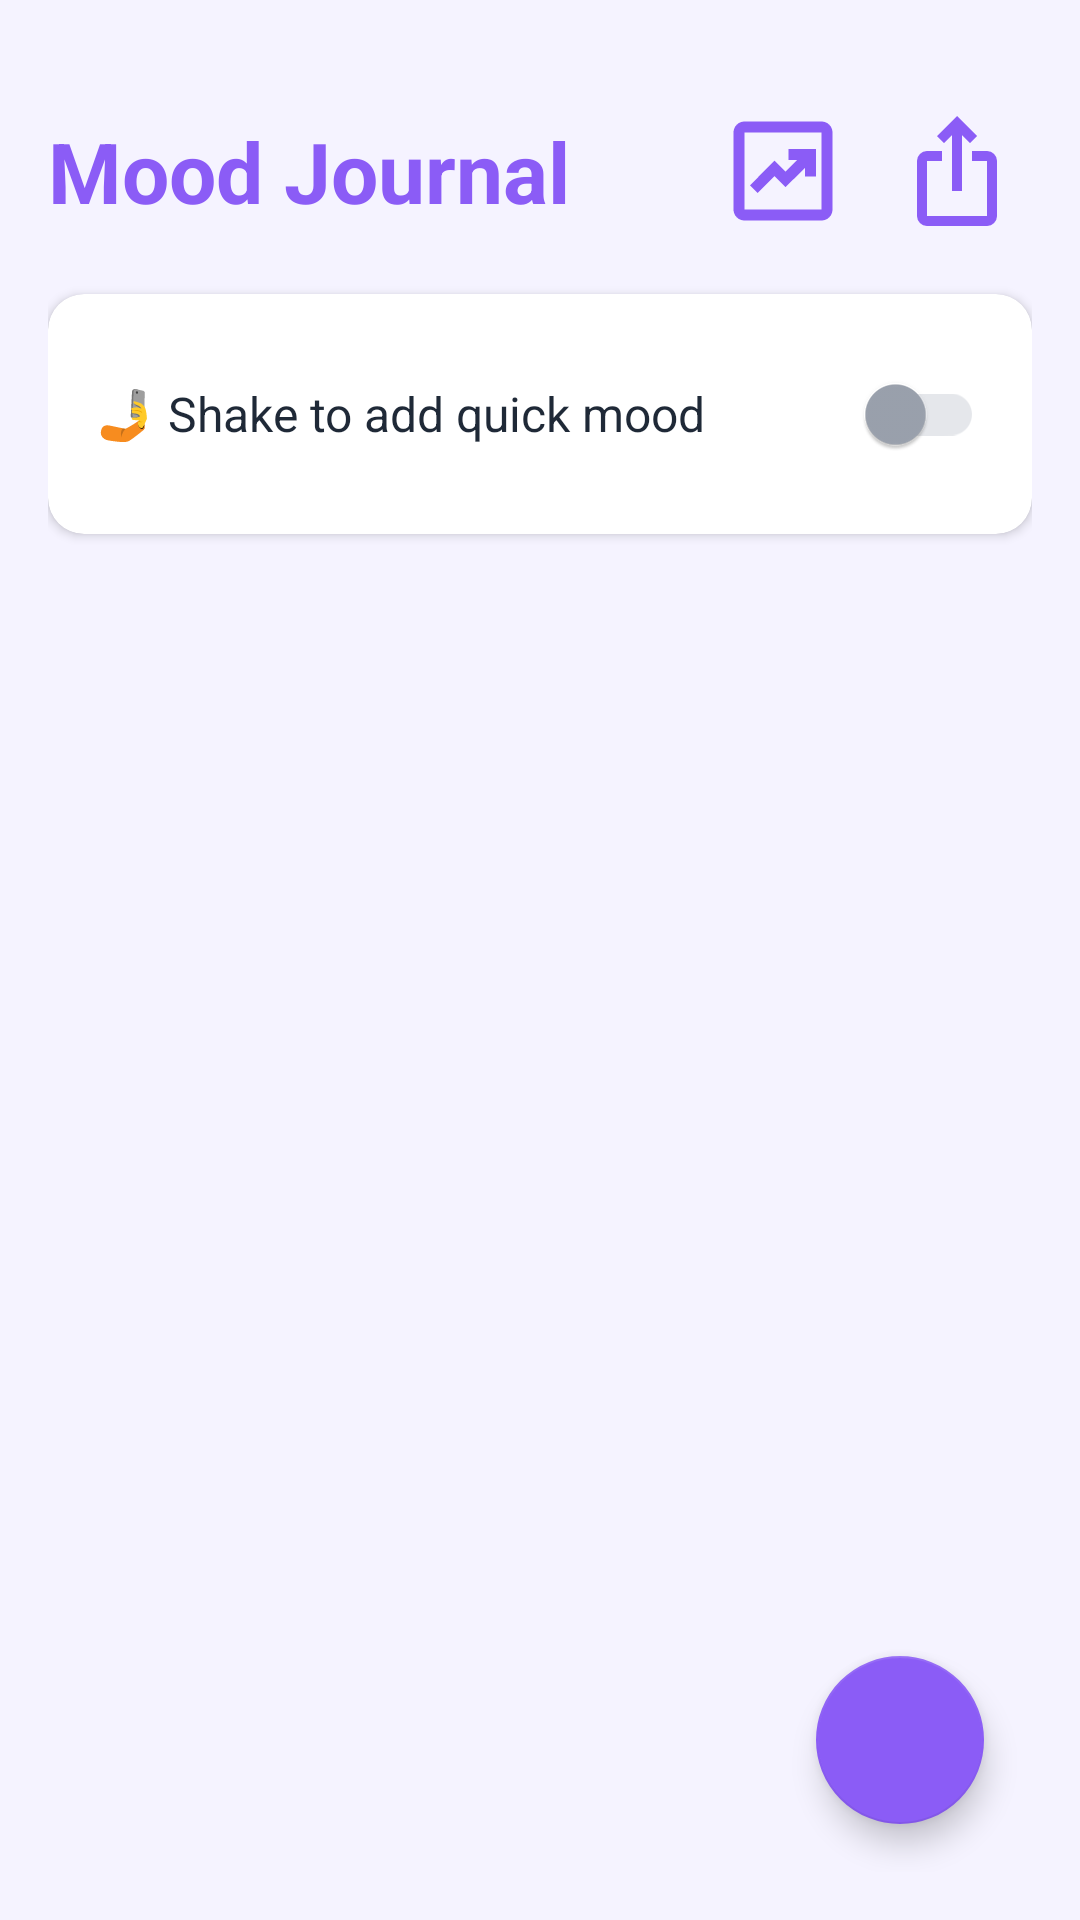

Icons on this 1080×1920 Android screen, each with the point to tap as (x,y):
Share mood summary: (957,171)
View mood chart: (783,171)
